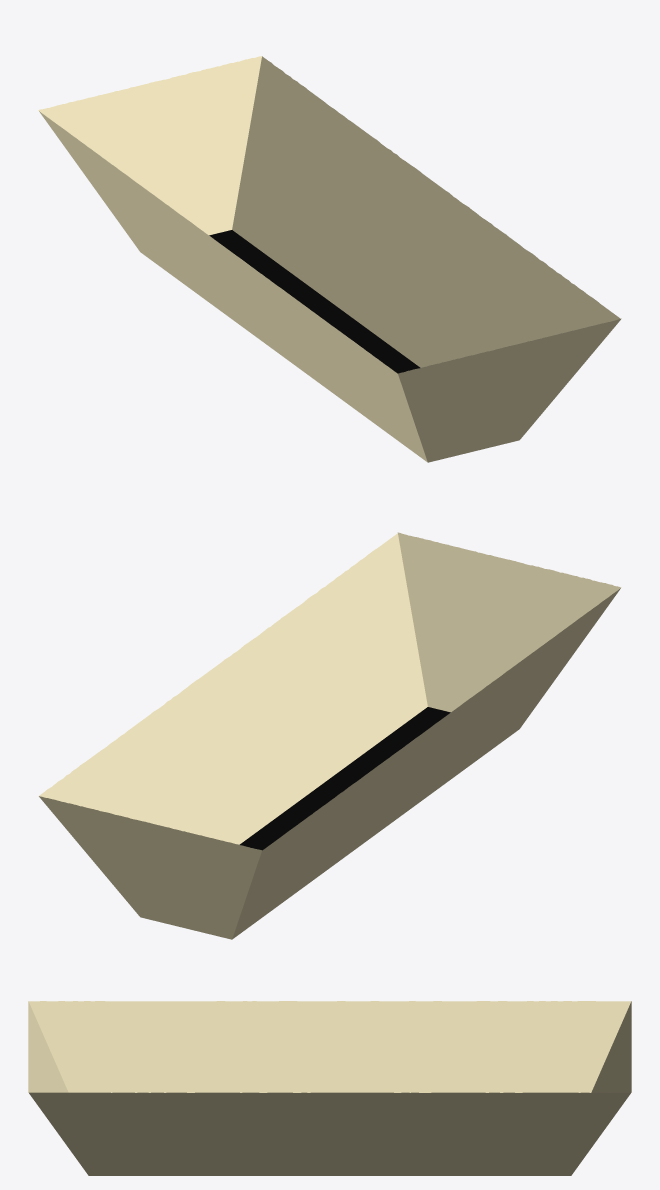
Rendered from Hole.fbx.
The picture shows the model from 3 angles, top to bottom: view 1: azimuth 30°, elevation 25°; view 2: azimuth 150°, elevation 25°; view 3: azimuth 270°, elevation 25°; orthographic projection. The views are drawn at different scales.
Parts seen in each view (by area): view 1: Hole; view 2: Hole; view 3: Hole.
Boxes of the visible parts, bbox=[...] form: Hole: bbox=[38, 56, 621, 462]; Hole: bbox=[39, 532, 621, 939]; Hole: bbox=[28, 1001, 631, 1175].
Bounding box in the file's own units: 2.78 × 1.7 × 7.11.
Materials: 1 (1 with a texture image).
